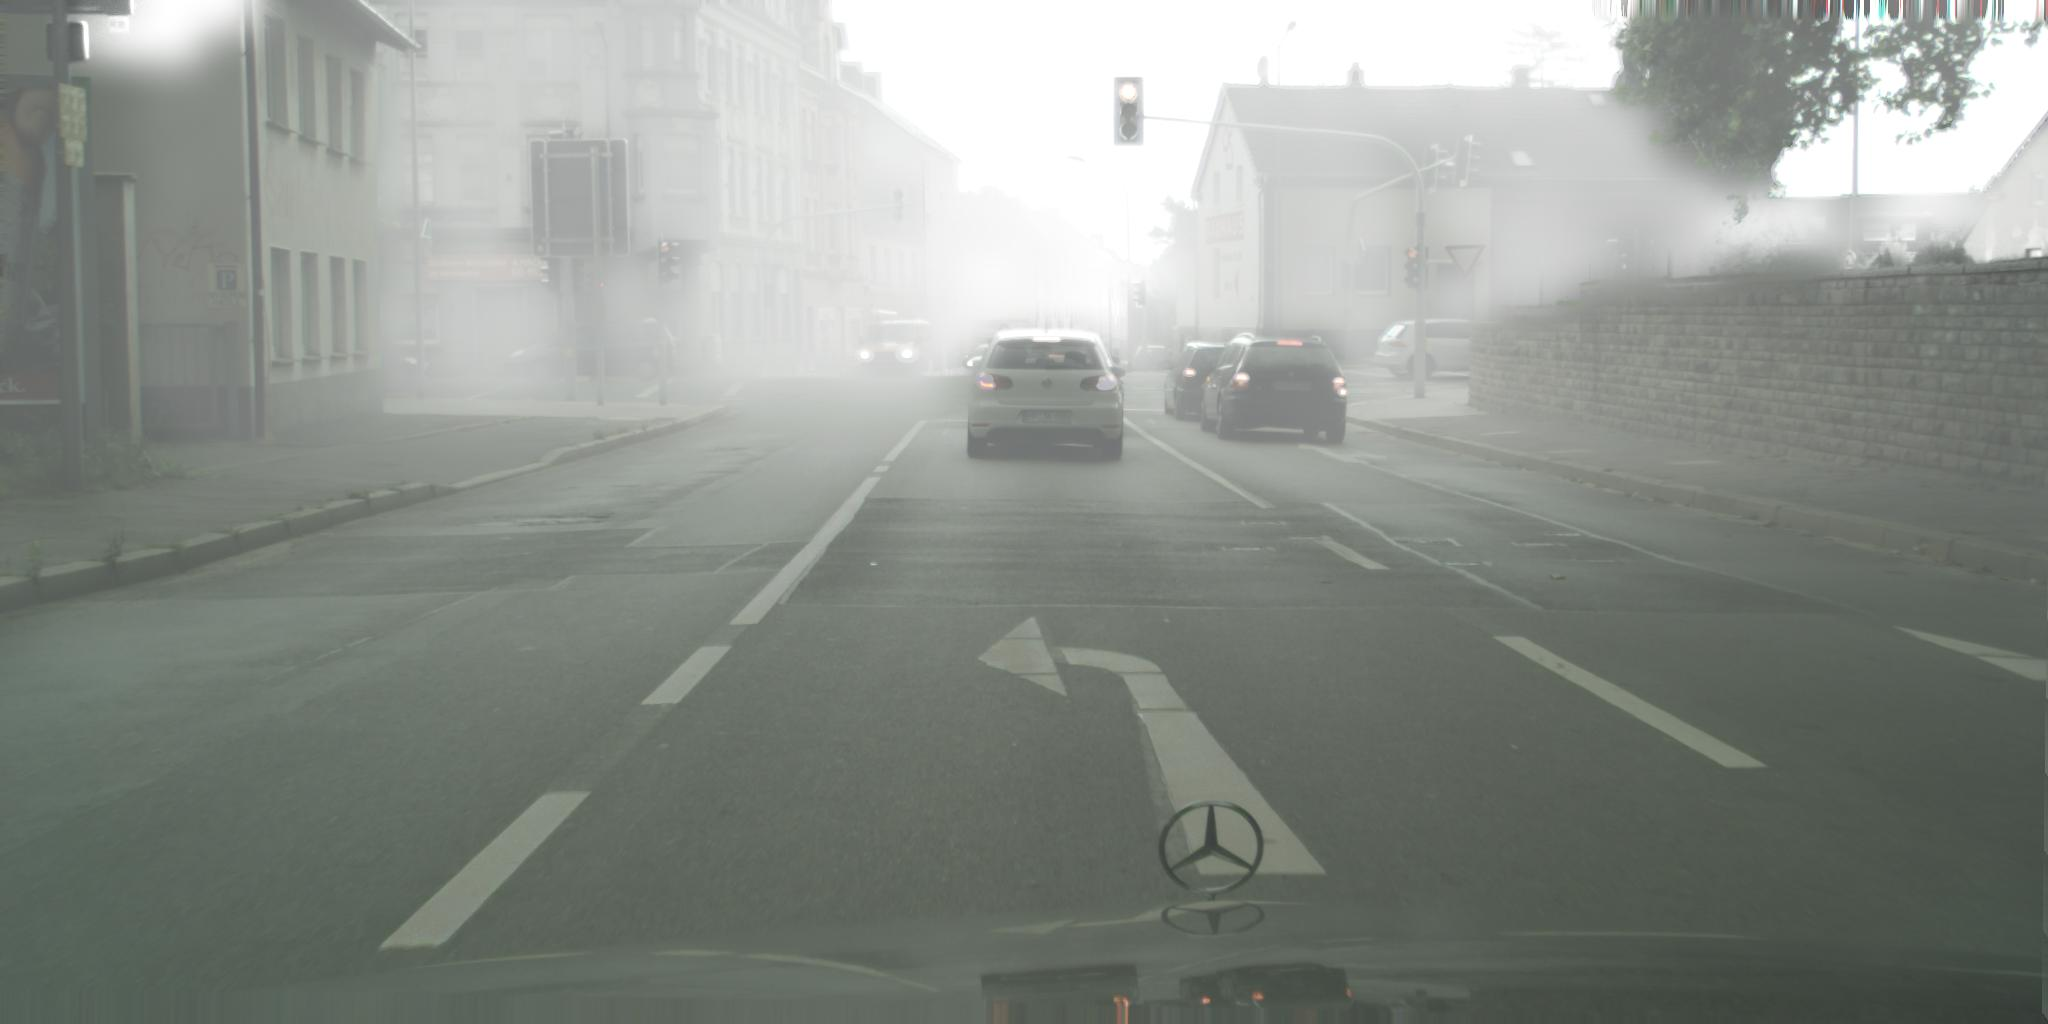car: (955, 330, 1128, 461), (1200, 333, 1347, 445), (505, 323, 677, 383), (1374, 319, 1512, 383), (1159, 340, 1237, 421), (856, 302, 933, 377), (383, 353, 432, 391), (963, 344, 1011, 379), (1131, 345, 1174, 371), (1098, 353, 1122, 366)
